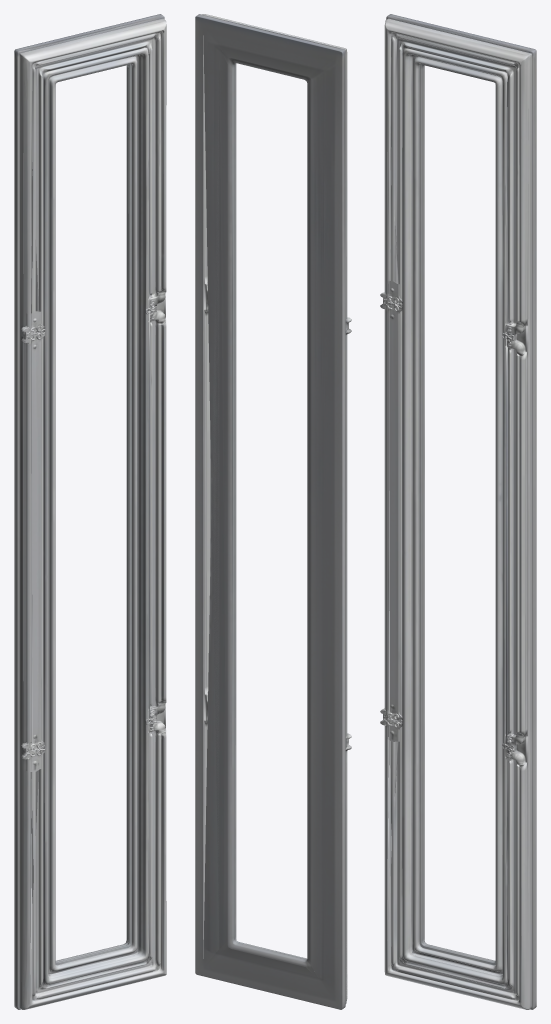
File: tripo_convert_ffff96ba-3d80-416f-98c8-4ebc09f77add.fbx
The picture shows the model from 3 angles, left to right: view 1: azimuth 30°, elevation 25°; view 2: azimuth 150°, elevation 25°; view 3: azimuth 330°, elevation 25°; orthographic projection.
Visible parts, largest first — view 1: tripo_part_0, tripo_part_1, tripo_part_2, tripo_part_9; view 2: tripo_part_2, tripo_part_1, tripo_part_0; view 3: tripo_part_0, tripo_part_1, tripo_part_2, tripo_part_9.
Boxes of the visible parts, x1,y1,x2,y2 form: tripo_part_0: [19, 18, 166, 1009]; tripo_part_1: [48, 55, 138, 976]; tripo_part_2: [14, 14, 164, 1009]; tripo_part_9: [152, 307, 154, 706]; tripo_part_2: [195, 14, 345, 1009]; tripo_part_1: [220, 49, 318, 978]; tripo_part_0: [202, 14, 351, 1003]; tripo_part_0: [380, 18, 531, 1009]; tripo_part_1: [412, 55, 505, 975]; tripo_part_2: [386, 14, 536, 1009]; tripo_part_9: [512, 336, 517, 746].
Bounding box in the file's own units: 0.1616 × 0.9995 × 0.0181.
Materials: 1 (1 with a texture image).
